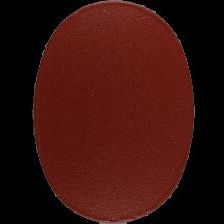27241-006: (0, 0, 224, 224)
